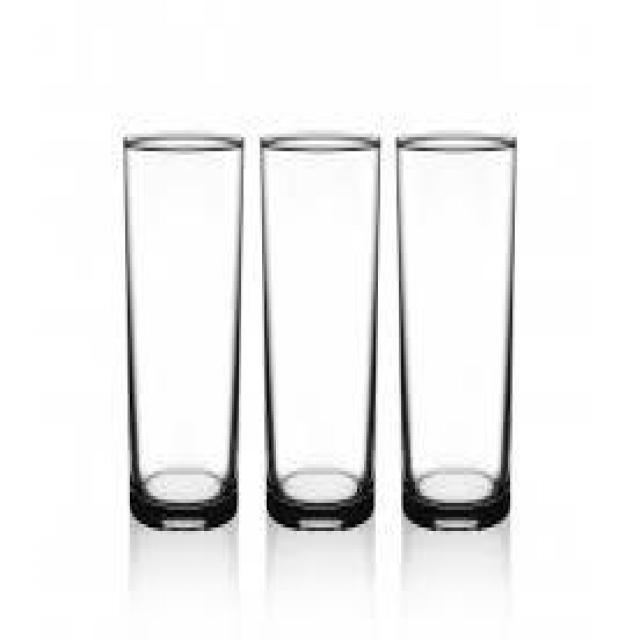glass: (120, 134, 244, 532)
